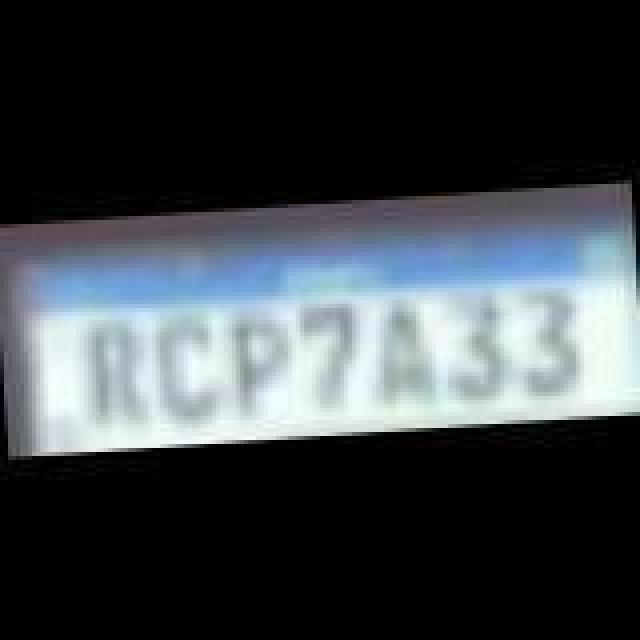3: (444, 290, 516, 398), (516, 286, 588, 394)
7: (292, 304, 364, 416)
A: (370, 298, 446, 414)
C: (146, 318, 222, 434)
P: (222, 306, 290, 422)
R: (84, 320, 148, 432)
